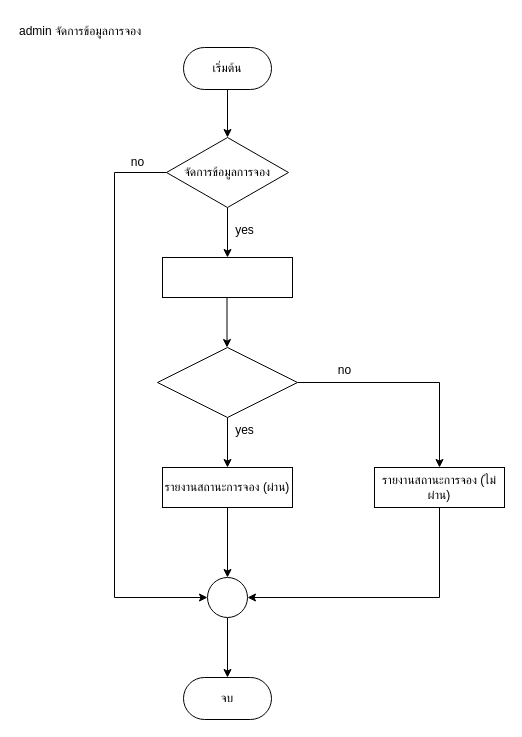
Some shapes in this 522 by 737 pixel diagram are drawn without their labels. The shapes that lost their labels are listed below. From the top down, each one's box as (x1, y1, x2, y2) in pixels, then its label:
(162, 256, 292, 298): ตรวจสอบรายการการจอง
(156, 346, 298, 418): ยืนยันรายการการจอง
